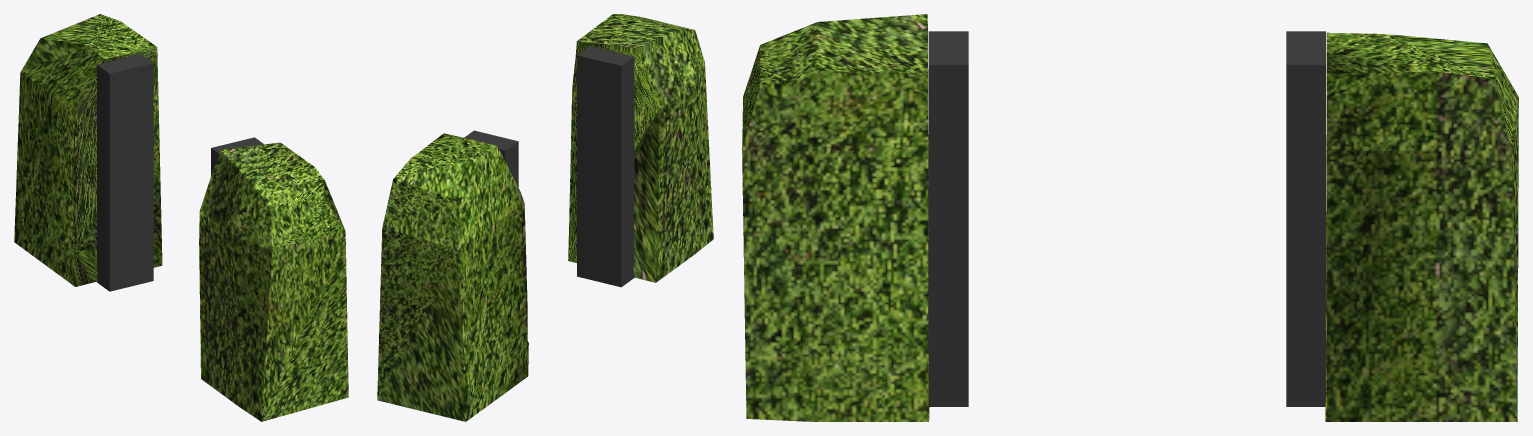
File: hedge_door.gltf.glb
The picture shows the model from 3 angles, left to right: view 1: azimuth 30°, elevation 25°; view 2: azimuth 150°, elevation 25°; view 3: azimuth 270°, elevation 25°; orthographic projection. The views are drawn at different scales.
Visible parts, largest first — view 1: Hedge, PostRight, PostLeft; view 2: Hedge, PostLeft, PostRight; view 3: Hedge, PostLeft, PostRight.
Boxes of the visible parts, x1,y1,x2,y2 form: Hedge: (14,14,348,421); PostRight: (97,54,153,291); PostLeft: (211,137,263,175); Hedge: (377,14,713,421); PostLeft: (577,46,634,287); PostRight: (464,130,518,187); Hedge: (742,14,1518,421); PostLeft: (928,31,968,406); PostRight: (1286,31,1325,406).
Size of the model in its own units: 0.8434 by 1.98 by 3.91.
Materials: 2 (1 with a texture image).
